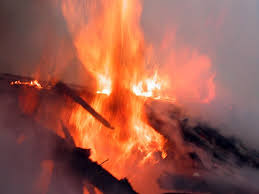fire: (31, 33, 191, 174)
